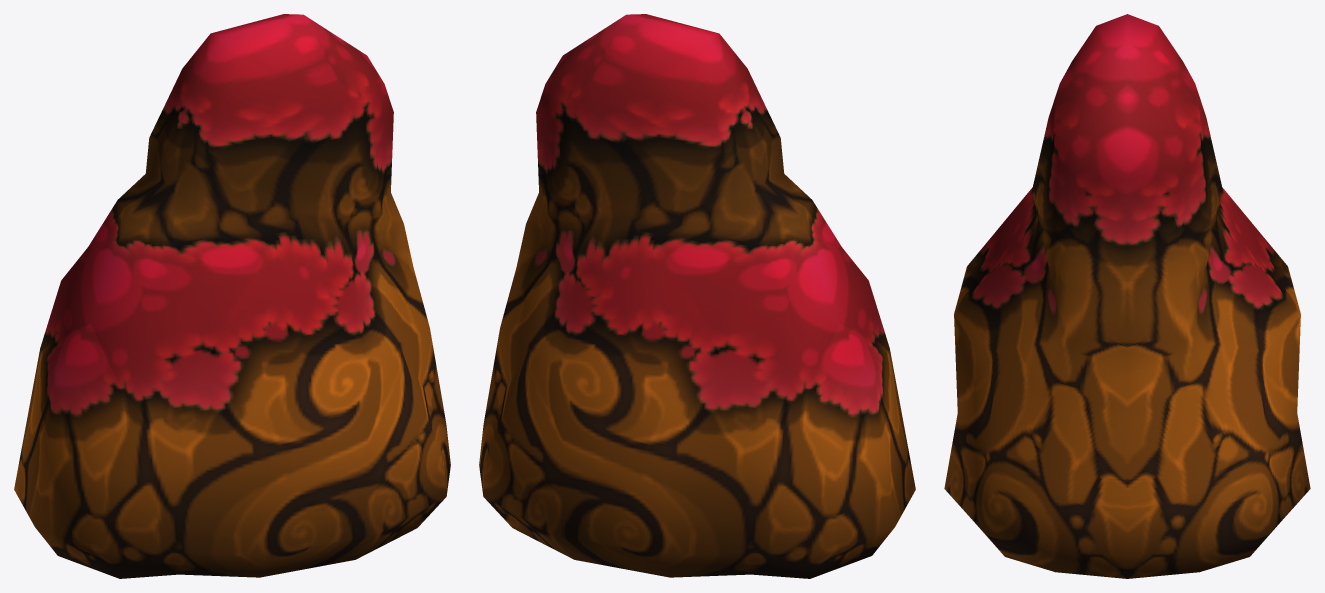
The model's file is Red_Rock_03.FBX.
3 views of the same model, side by side, from view 1: azimuth 30°, elevation 25°; view 2: azimuth 150°, elevation 25°; view 3: azimuth 270°, elevation 25° (orthographic).
Visible parts, largest first — view 1: Red_Rock_03; view 2: Red_Rock_03; view 3: Red_Rock_03.
Part boxes in pixels (x1,y1,x2,y2): Red_Rock_03: (14, 14, 450, 578); Red_Rock_03: (479, 14, 915, 578); Red_Rock_03: (944, 14, 1310, 578).
Size of the model in its own units: 340 by 402 by 278.
